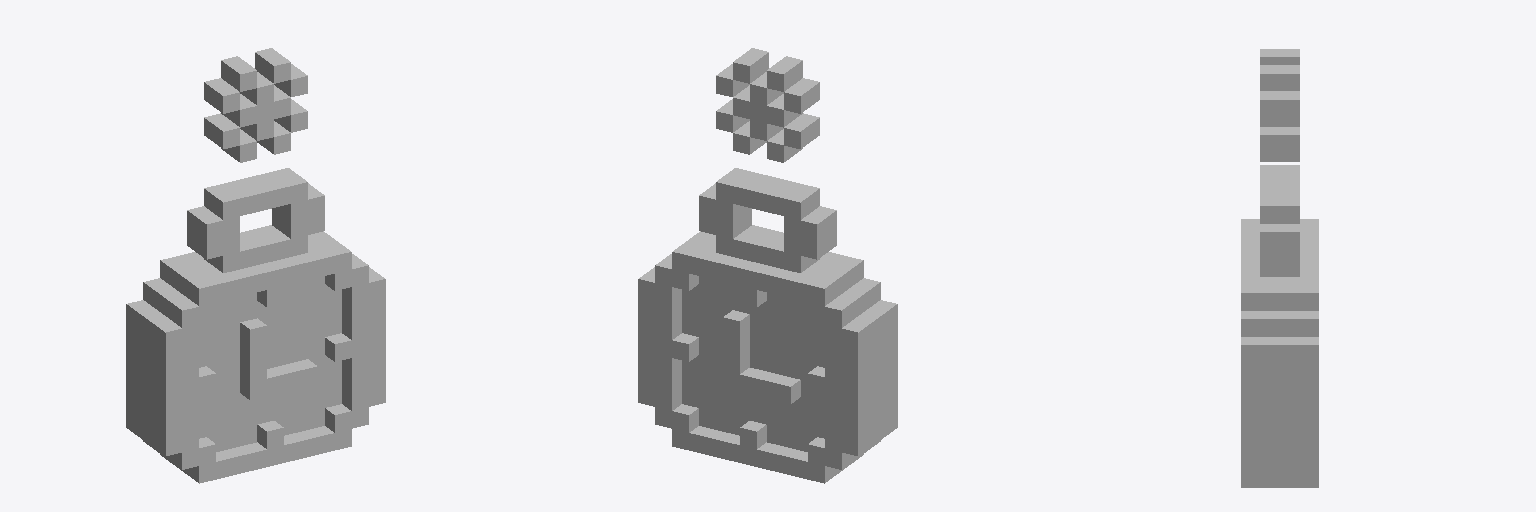
The model's file is Stopwatch Freeze.obj.
3 views of the same model, side by side, from view 1: azimuth 30°, elevation 25°; view 2: azimuth 150°, elevation 25°; view 3: azimuth 270°, elevation 25° (orthographic).
Visible parts, largest first — view 1: object 1; view 2: object 1; view 3: object 1.
Part boxes in pixels (x1,y1,x2,y2): object 1: (126,48,385,483); object 1: (638,48,897,483); object 1: (1241,49,1318,487).
Size of the model in its own units: 1.3 by 2.2 by 0.4.